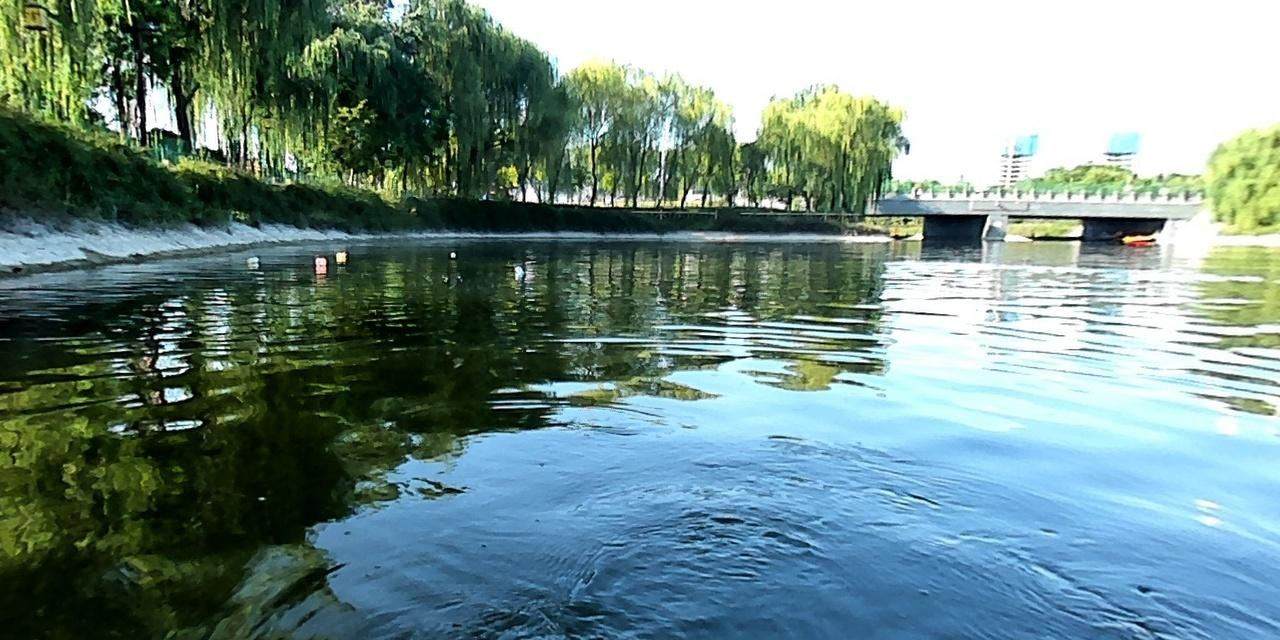bottle: (508, 262, 528, 277), (243, 252, 257, 264), (332, 248, 347, 259), (312, 254, 325, 265)
